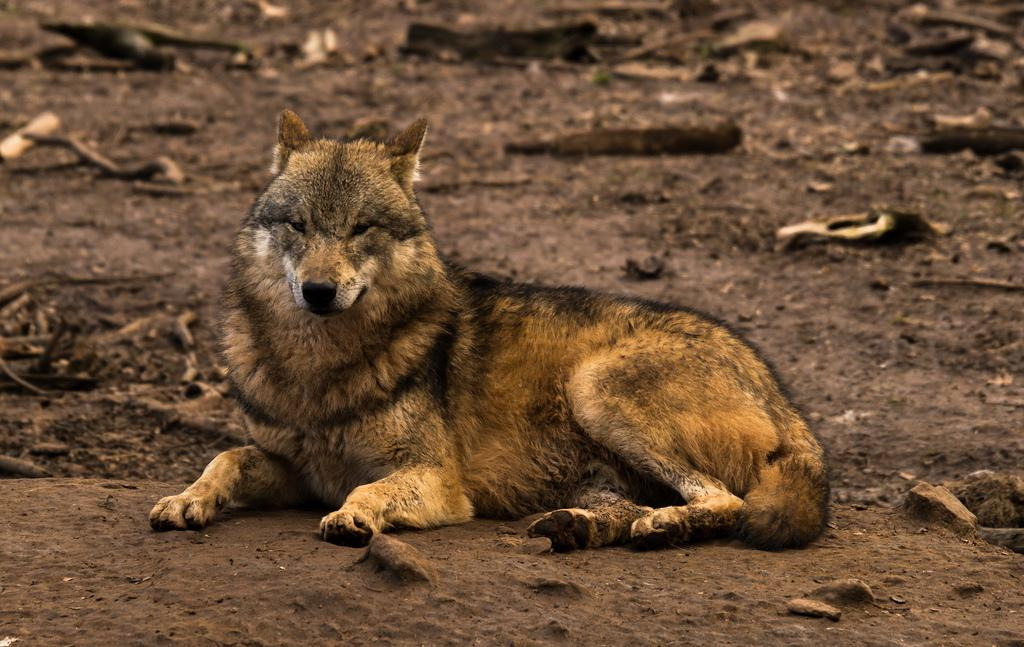Wolf: (151, 109, 836, 576)
